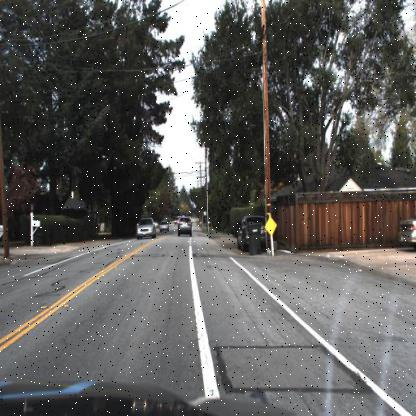car: (235, 214, 270, 252), (136, 217, 156, 239), (176, 215, 193, 238), (159, 220, 168, 232)
